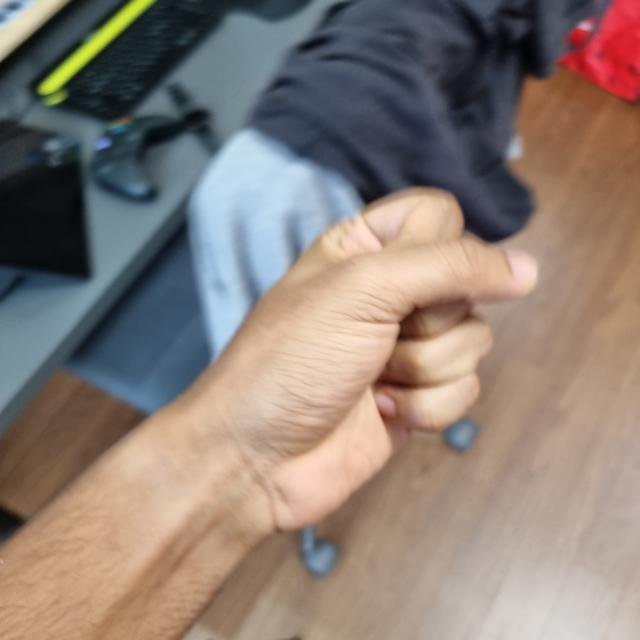Rock: (211, 192, 528, 520)
